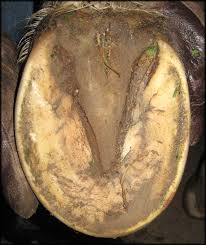horsesole: (14, 30, 191, 238)
